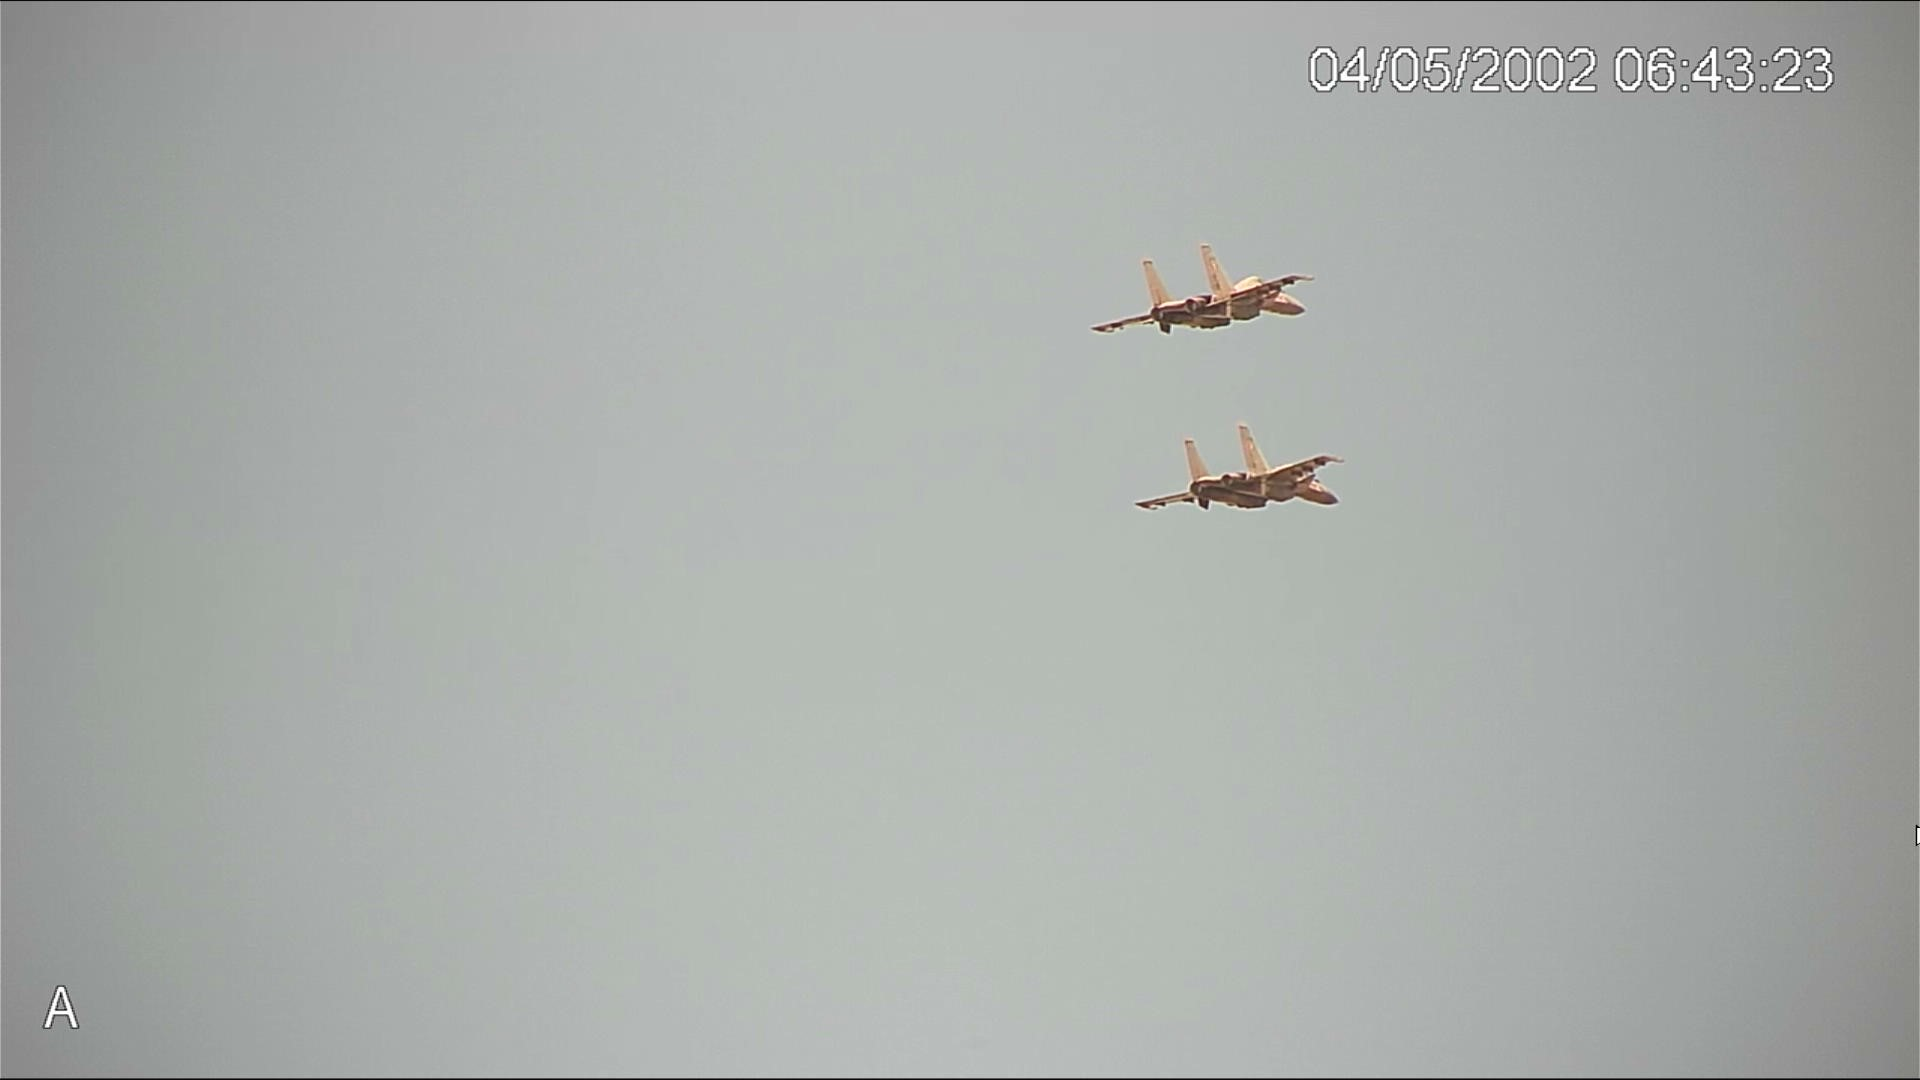SU_30: (1088, 244, 1311, 339), (1131, 421, 1352, 516)
